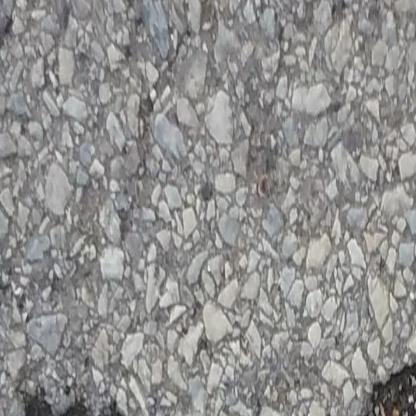Cracks: (301, 369, 416, 416), (8, 400, 132, 416)
